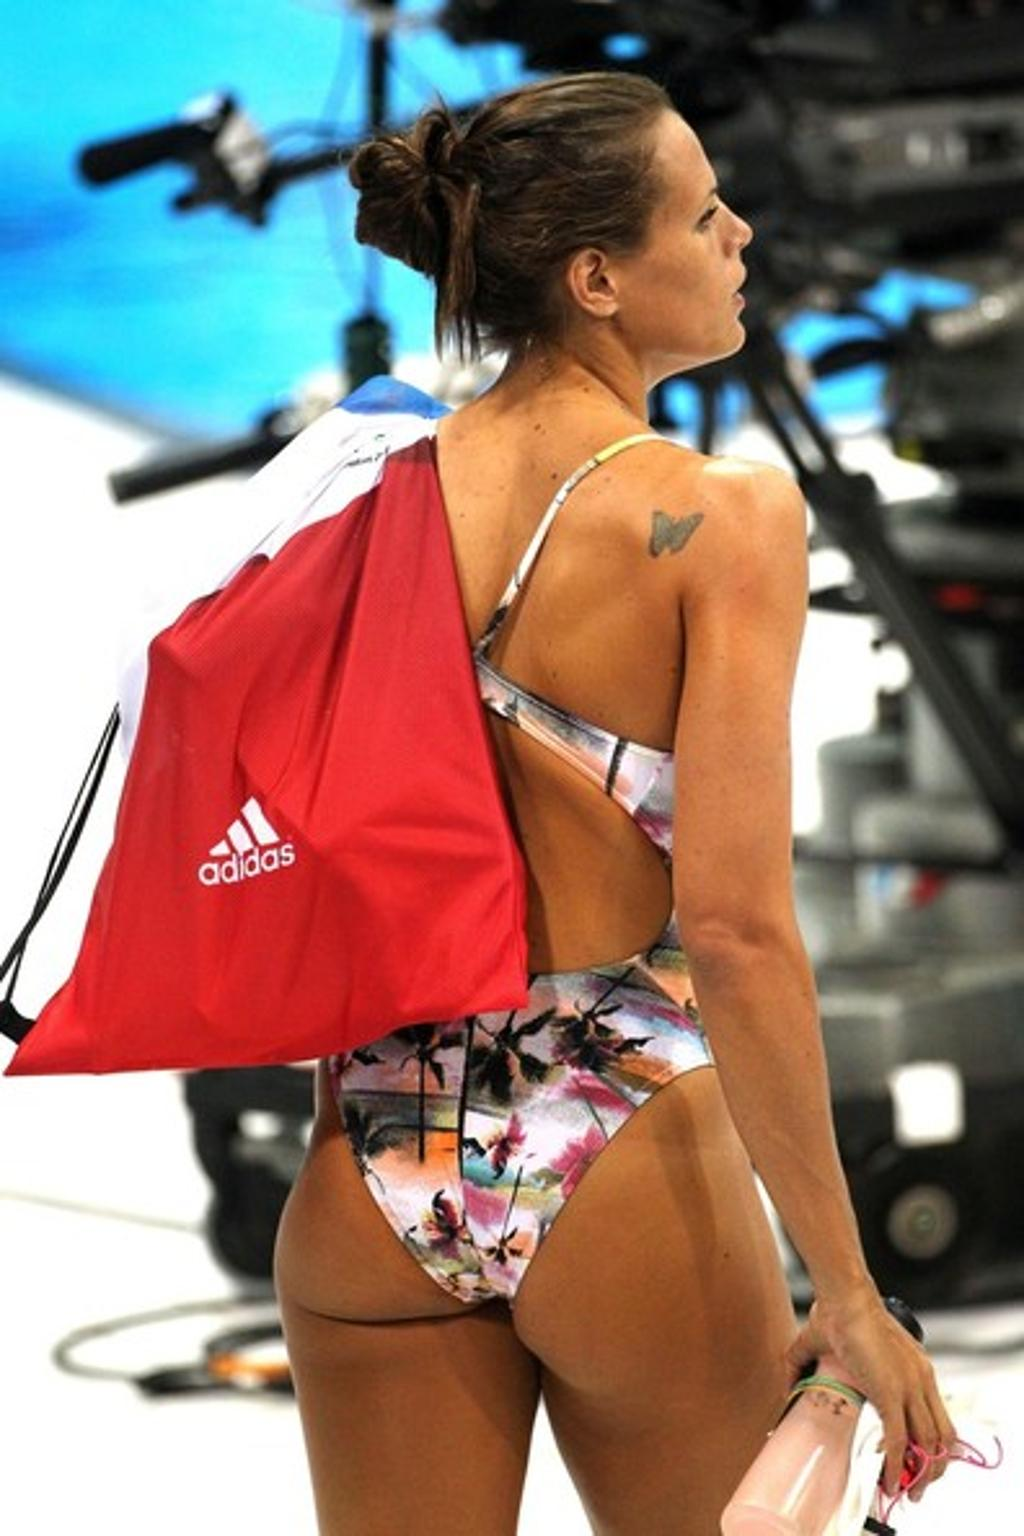face: (607, 126, 757, 366)
